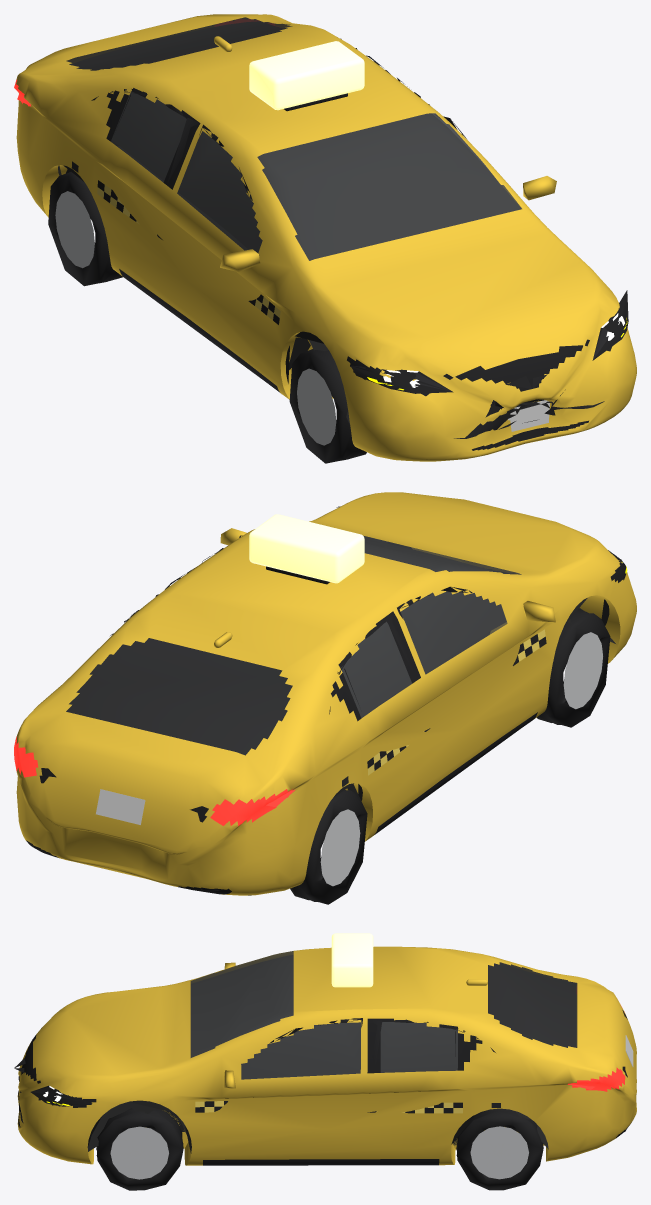
Rendered from taxiCheckered-lod2.glb.
3 views of the same model, one above another, from view 1: azimuth 30°, elevation 25°; view 2: azimuth 150°, elevation 25°; view 3: azimuth 270°, elevation 25° (orthographic). The views are drawn at different scales.
Parts seen in each view (by area): view 1: Body, Body_Lining, TaxiSign, Body_Trim, Wheel_FR_Tyre, Wheel_RR_Tyre, Wheel_FR_Face, Wheel_RR_Face, PlateFront, Arch_F_R_Liner, Mirror_R_Housing; view 2: Body, Body_Lining, TaxiSign, Wheel_FR_Tyre, Wheel_RR_Tyre, Wheel_RR_Face, Wheel_FR_Face, PlateRear, Body_Trim; view 3: Body, Body_Lining, Wheel_FL_Tyre, Wheel_RL_Tyre, Wheel_FL_Face, Wheel_RL_Face, TaxiSign, Body_Trim, Arch_F_L_Liner, Livery_L_Door_RL.
Boxes of the visible parts, bbox=[...] form: Body: bbox=[14, 14, 636, 461]; Body_Lining: bbox=[72, 22, 520, 260]; TaxiSign: bbox=[249, 41, 364, 110]; Body_Trim: bbox=[17, 38, 628, 438]; Wheel_FR_Tyre: bbox=[289, 349, 366, 463]; Wheel_RR_Tyre: bbox=[48, 172, 122, 286]; Wheel_FR_Face: bbox=[297, 368, 336, 445]; Wheel_RR_Face: bbox=[55, 191, 94, 268]; PlateFront: bbox=[508, 400, 549, 431]; Arch_F_R_Liner: bbox=[285, 331, 349, 424]; Mirror_R_Housing: bbox=[220, 249, 260, 271]; Body: bbox=[14, 492, 636, 895]; Body_Lining: bbox=[68, 539, 506, 754]; TaxiSign: bbox=[249, 514, 364, 583]; Wheel_FR_Tyre: bbox=[537, 608, 610, 727]; Wheel_RR_Tyre: bbox=[290, 790, 367, 904]; Wheel_RR_Face: bbox=[320, 809, 360, 886]; Wheel_FR_Face: bbox=[563, 632, 602, 709]; PlateRear: bbox=[96, 789, 145, 824]; Body_Trim: bbox=[30, 506, 627, 891]; Body: bbox=[17, 946, 636, 1165]; Body_Lining: bbox=[191, 955, 575, 1078]; Wheel_FL_Tyre: bbox=[96, 1108, 183, 1190]; Wheel_RL_Tyre: bbox=[456, 1108, 543, 1190]; Wheel_FL_Face: bbox=[110, 1126, 168, 1179]; Wheel_RL_Face: bbox=[470, 1126, 528, 1179]; TaxiSign: bbox=[331, 933, 373, 987]; Body_Trim: bbox=[14, 1018, 627, 1133]; Arch_F_L_Liner: bbox=[87, 1100, 191, 1153]; Livery_L_Door_RL: bbox=[367, 1102, 462, 1113].
Bounding box in the file's own units: 2.29 × 1.72 × 4.95.
